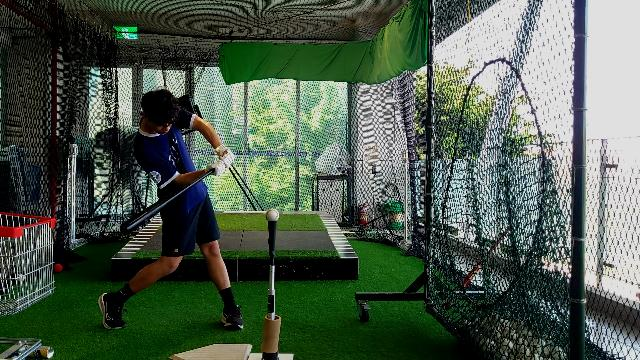bat: (120, 166, 214, 236)
